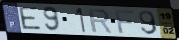1: (75, 7, 87, 34)
9: (138, 10, 159, 36), (42, 6, 62, 32)
E: (17, 6, 43, 31)
F: (114, 9, 136, 34)
R: (88, 8, 114, 34)
